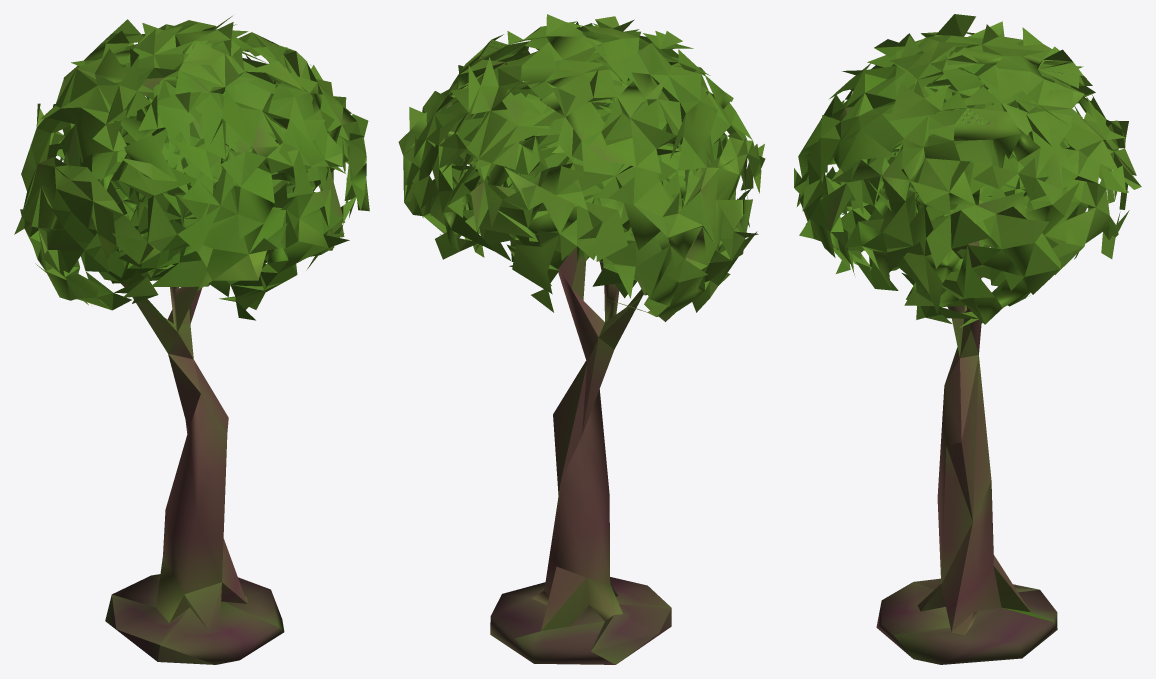
Rendered from addy_tree.obj.
The picture shows the model from 3 angles, left to right: view 1: azimuth 30°, elevation 25°; view 2: azimuth 150°, elevation 25°; view 3: azimuth 270°, elevation 25°; orthographic projection. The views are drawn at different scales.
Parts seen in each view (by area): view 1: model; view 2: model; view 3: model.
Boxes of the visible parts, x1,y1,x2,y2 form: model: (14, 16, 369, 664); model: (398, 14, 765, 664); model: (794, 14, 1141, 664).
Bounding box in the file's own units: 1.06 × 1.9 × 1.01.
